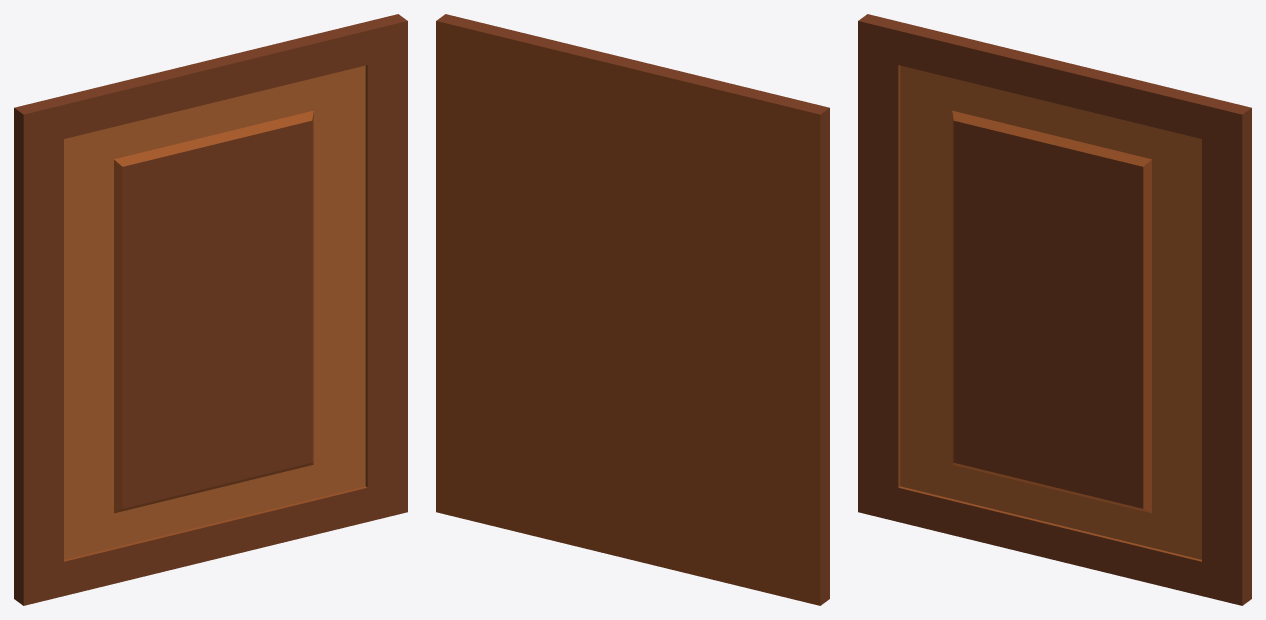
File: door 2.fbx
The picture shows the model from 3 angles, left to right: view 1: azimuth 30°, elevation 25°; view 2: azimuth 150°, elevation 25°; view 3: azimuth 330°, elevation 25°; orthographic projection.
Parts seen in each view (by area): view 1: Cube; view 2: Cube; view 3: Cube.
Part boxes in pixels (x1,y1,x2,y2): Cube: [14, 14, 407, 605]; Cube: [436, 14, 829, 605]; Cube: [858, 14, 1251, 605].
Size of the model in its own units: 1518 by 1855 by 77.14.
Materials: 1 (1 with a texture image).
